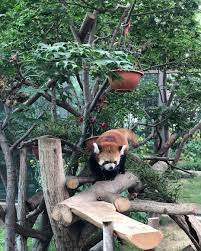redPanda: (72, 115, 153, 185)
